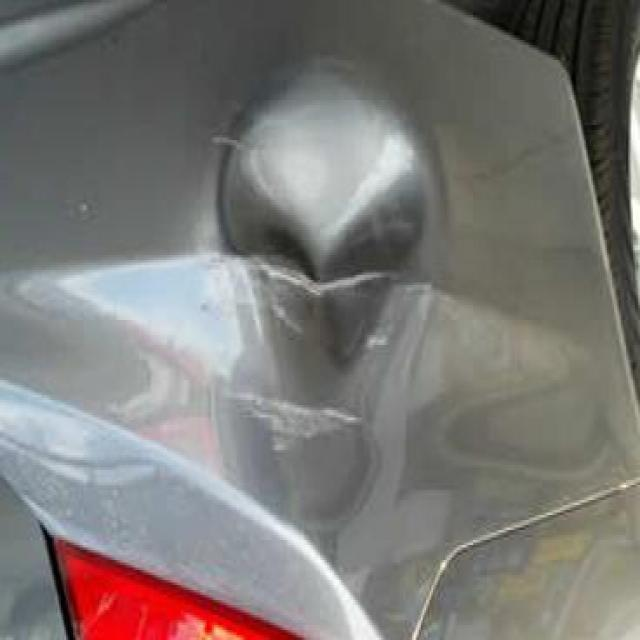dent: (210, 42, 446, 438)
